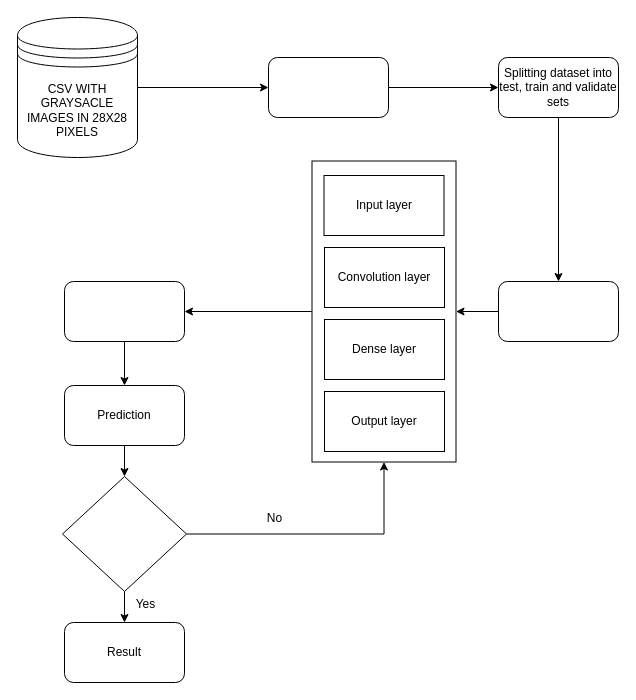
Image size: 636x700. Some labels were removed from this diagram. The centre of each missing label's shape, as x and y in pixels:
"Is output correct" belongs at pixel 124 534.
"Model training" belongs at pixel 124 311.
"Shuffle images from dataset." belongs at pixel 558 311.
"Split x and y columns" belongs at pixel 328 87.
